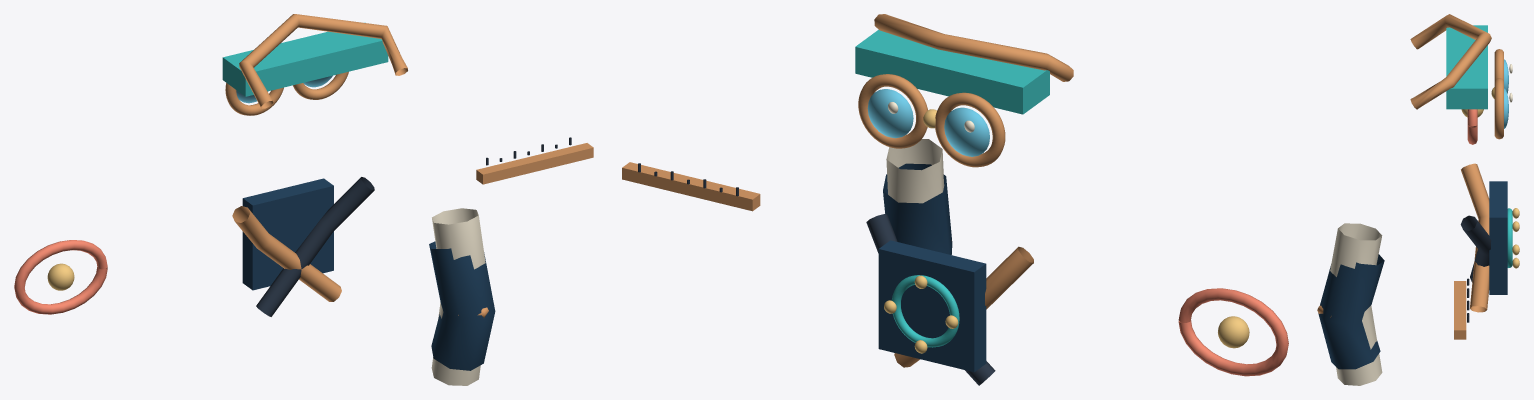
File: G01-ElasticArchitect-R59-PropsSTUDY.glb
The picture shows the model from 3 angles, left to right: view 1: azimuth 30°, elevation 25°; view 2: azimuth 150°, elevation 25°; view 3: azimuth 270°, elevation 25°; orthographic projection. The views are drawn at different scales.
Visible parts, largest first — view 1: G01_Blueprint_Blue_Case, G01_Teal_Survey_Visor, G01_CAD_Engineer_Badge, G01_Head_Copper_Band, G01_Rolled_Blueprint_Tube, G01_Harness_CrossRight, G01_Hand_Elastic_Compass_Loop, G01_Harness_CrossLeft, G01_Right_Hand_Ruler, G01_Survey_Glass_Ring_0, G01_Survey_Glass_Ring_1, G01_Elastic_Compass_Anchor; view 2: G01_CAD_Engineer_Badge, G01_Teal_Survey_Visor, G01_Hand_Elastic_Compass_Loop, G01_Head_Copper_Band, G01_Blueprint_Blue_Case, G01_Rolled_Blueprint_Tube, G01_Right_Hand_Ruler, G01_Survey_Glass_Ring_0, G01_Survey_Glass_Ring_1, G01_Survey_Glass_0, G01_Survey_Glass_1, G01_Elastic_Geometry_Emblem (+3 smaller); view 3: G01_Blueprint_Blue_Case, G01_Rolled_Blueprint_Tube, G01_Teal_Survey_Visor, G01_Head_Copper_Band, G01_CAD_Engineer_Badge, G01_Harness_CrossLeft, G01_Harness_CrossRight, G01_Right_Hand_Ruler, G01_Survey_Glass_Ring_1, G01_Hand_Elastic_Compass_Loop, G01_Elastic_Geometry_Emblem, G01_Survey_Glass_Ring_0.
Part boxes in pixels (x1=…): G01_Blueprint_Blue_Case: x1=429, y1=241, x2=495, y2=370; G01_Teal_Survey_Visor: x1=222, y1=22, x2=388, y2=96; G01_CAD_Engineer_Badge: x1=242, y1=178, x2=333, y2=290; G01_Head_Copper_Band: x1=239, y1=14, x2=407, y2=108; G01_Rolled_Blueprint_Tube: x1=431, y1=208, x2=485, y2=385; G01_Harness_CrossRight: x1=256, y1=177, x2=374, y2=316; G01_Hand_Elastic_Compass_Loop: x1=14, y1=240, x2=107, y2=314; G01_Harness_CrossLeft: x1=232, y1=206, x2=341, y2=301; G01_Right_Hand_Ruler: x1=476, y1=143, x2=593, y2=184; G01_Survey_Glass_Ring_0: x1=225, y1=83, x2=283, y2=115; G01_Survey_Glass_Ring_1: x1=293, y1=71, x2=348, y2=99; G01_Elastic_Compass_Anchor: x1=47, y1=263, x2=74, y2=290; G01_CAD_Engineer_Badge: x1=878, y1=240, x2=986, y2=372; G01_Teal_Survey_Visor: x1=855, y1=29, x2=1049, y2=114; G01_Hand_Elastic_Compass_Loop: x1=1178, y1=288, x2=1288, y2=376; G01_Head_Copper_Band: x1=874, y1=14, x2=1073, y2=81; G01_Blueprint_Blue_Case: x1=883, y1=163, x2=952, y2=254; G01_Rolled_Blueprint_Tube: x1=886, y1=139, x2=944, y2=203; G01_Right_Hand_Ruler: x1=622, y1=162, x2=760, y2=211; G01_Survey_Glass_Ring_0: x1=935, y1=92, x2=1005, y2=167; G01_Survey_Glass_Ring_1: x1=858, y1=74, x2=927, y2=148; G01_Survey_Glass_0: x1=944, y1=107, x2=989, y2=156; G01_Survey_Glass_1: x1=867, y1=89, x2=913, y2=138; G01_Elastic_Geometry_Emblem: x1=891, y1=275, x2=959, y2=347; G01_Blueprint_Blue_Case: x1=1318, y1=254, x2=1384, y2=369; G01_Rolled_Blueprint_Tube: x1=1330, y1=223, x2=1382, y2=385; G01_Teal_Survey_Visor: x1=1446, y1=25, x2=1487, y2=109; G01_Head_Copper_Band: x1=1410, y1=14, x2=1491, y2=109; G01_CAD_Engineer_Badge: x1=1489, y1=181, x2=1507, y2=294; G01_Harness_CrossLeft: x1=1461, y1=163, x2=1489, y2=312; G01_Harness_CrossRight: x1=1460, y1=215, x2=1491, y2=282; G01_Right_Hand_Ruler: x1=1454, y1=281, x2=1466, y2=339; G01_Survey_Glass_Ring_1: x1=1494, y1=78, x2=1503, y2=139; G01_Hand_Elastic_Compass_Loop: x1=1467, y1=109, x2=1477, y2=144; G01_Elastic_Geometry_Emblem: x1=1507, y1=208, x2=1512, y2=267; G01_Survey_Glass_Ring_0: x1=1494, y1=49, x2=1503, y2=80.
Bounding box in the file's own units: 1.44 × 0.8086 × 0.486.
